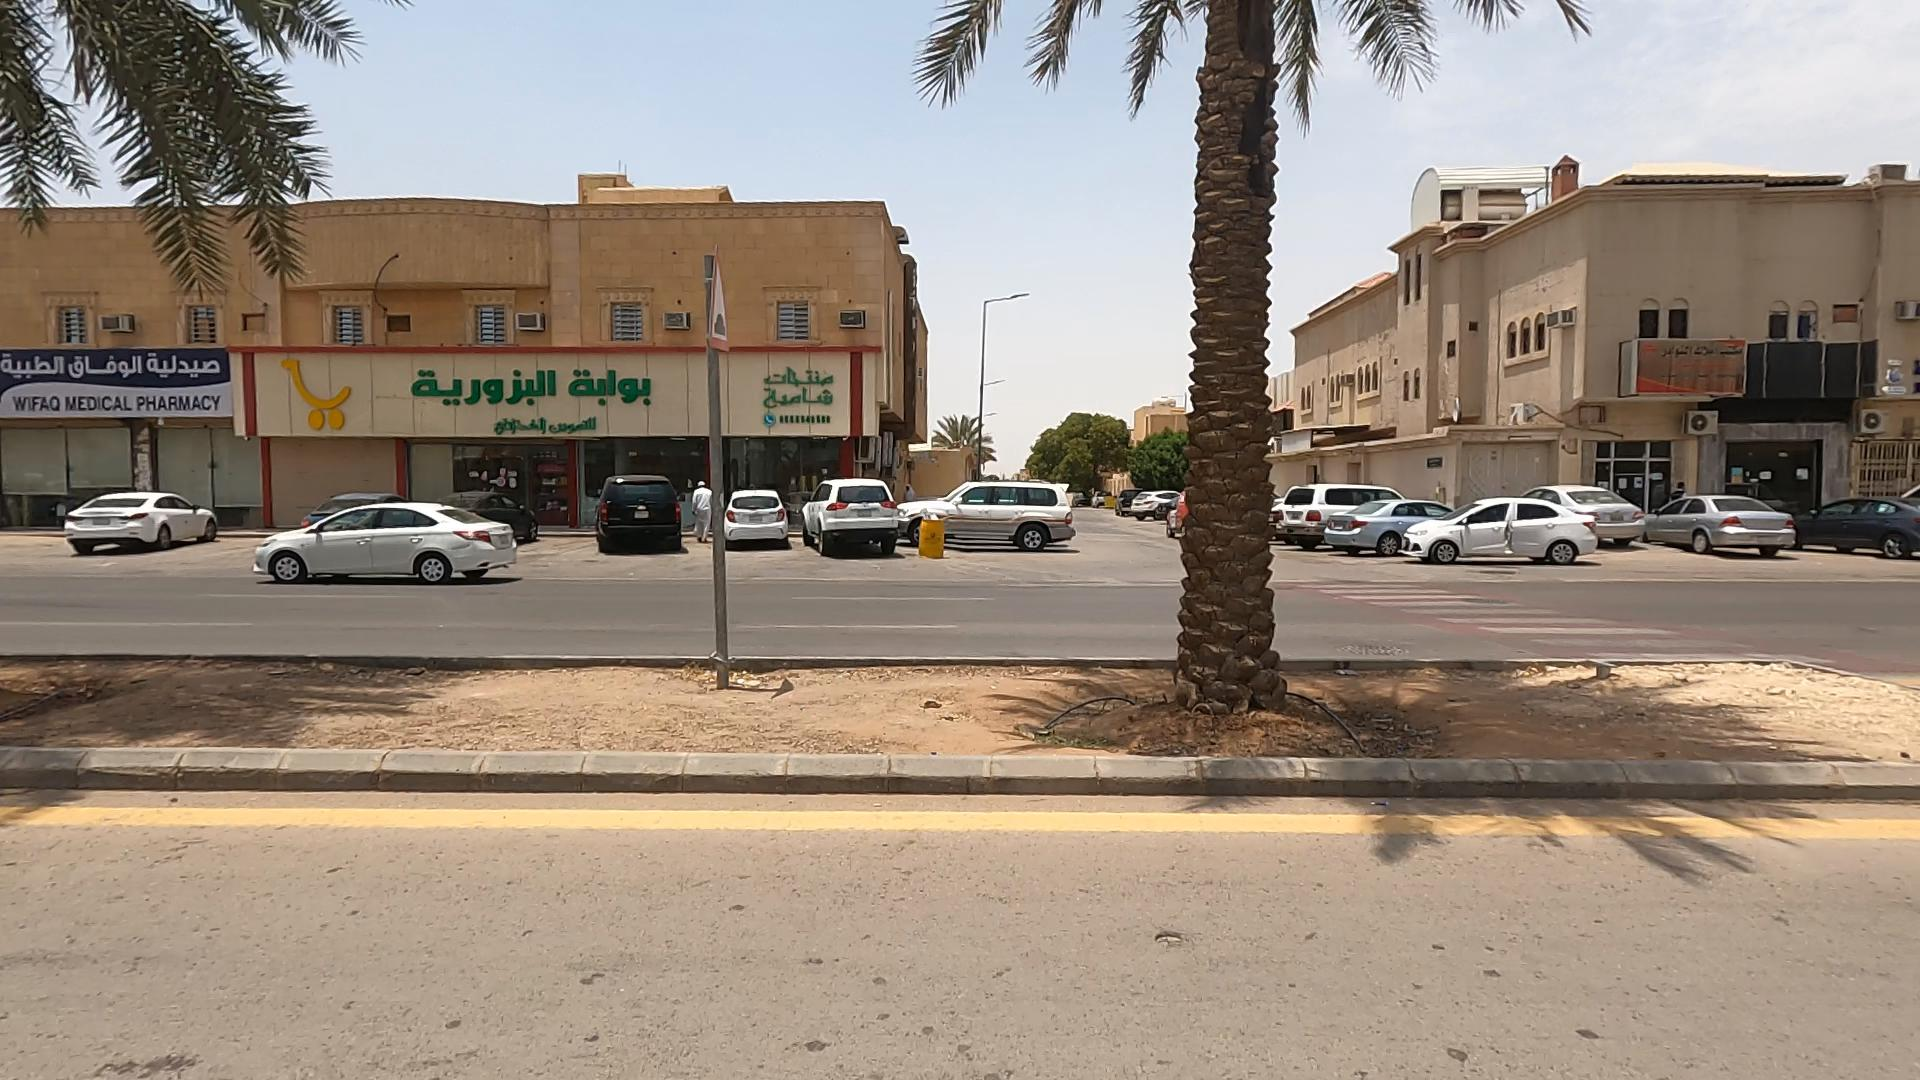BAD_BILLBOARD: (1604, 290, 1912, 444)
